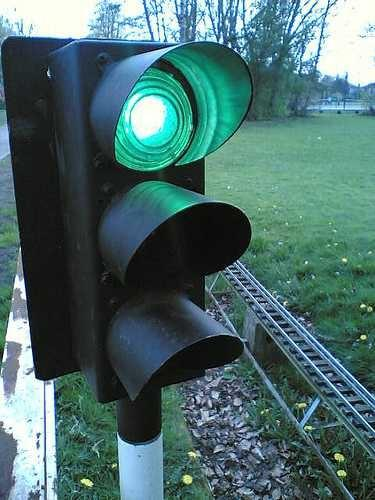red: (93, 54, 95, 59)
